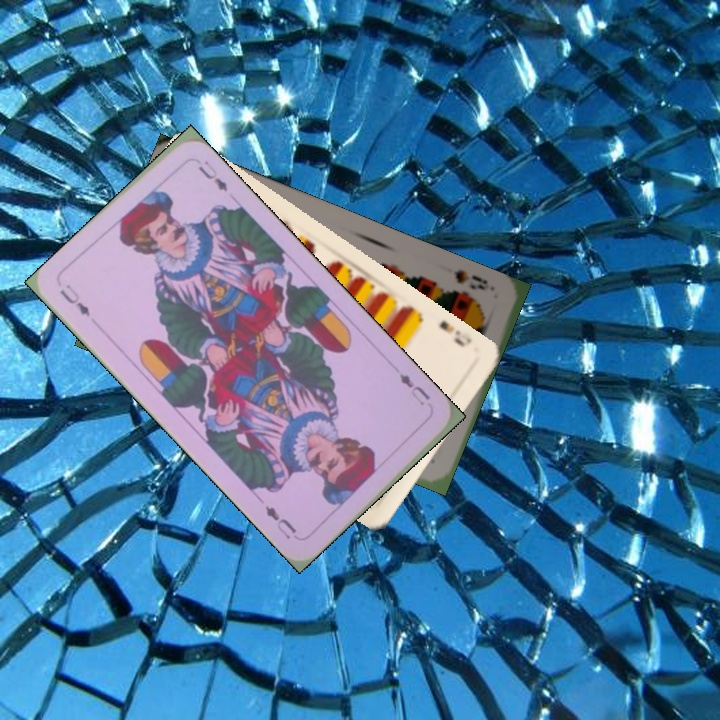E9: (435, 316, 475, 350)
EU: (55, 279, 93, 320), (395, 369, 433, 409)
S8: (449, 265, 497, 294)
